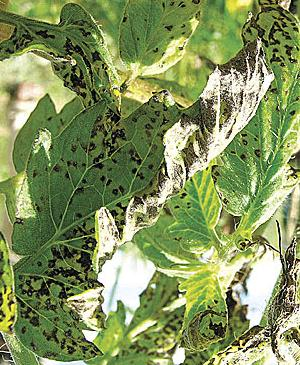Tomato Septoria leaf spot: (8, 54, 272, 355), (212, 0, 300, 234), (114, 0, 227, 77)
